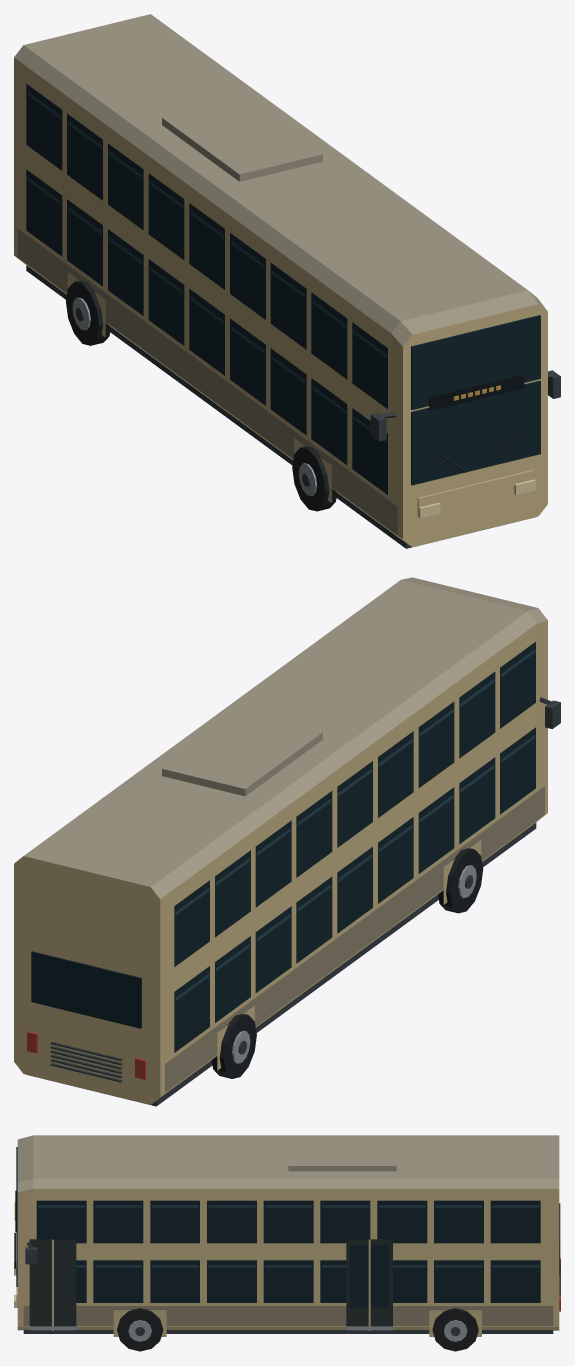
File: bus-heritage-double-deck.glb
3 views of the same model, one above another, from view 1: azimuth 30°, elevation 25°; view 2: azimuth 150°, elevation 25°; view 3: azimuth 270°, elevation 25° (orthographic). The views are drawn at different scales.
Parts seen in each view (by area): view 1: bus-heritage-double-deck.segment-01.005; view 2: bus-heritage-double-deck.segment-01.005; view 3: bus-heritage-double-deck.segment-01.005.
Part boxes in pixels (<box>): bus-heritage-double-deck.segment-01.005: <box>14,14,560,548</box>; bus-heritage-double-deck.segment-01.005: <box>14,577,560,1106</box>; bus-heritage-double-deck.segment-01.005: <box>14,1135,560,1351</box>.
Size of the model in its own units: 3.11 by 4.05 by 11.62.
